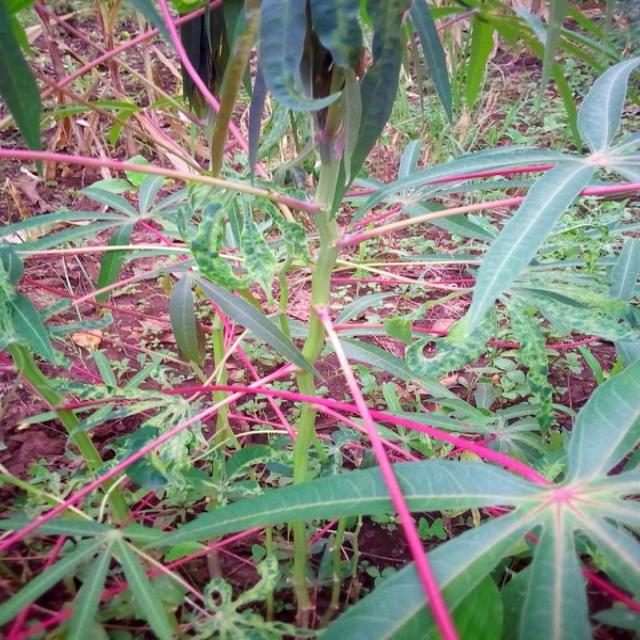cassava leaf: (2, 1, 640, 638), (406, 154, 596, 378)
